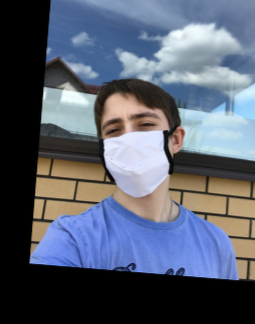with_mask: (98, 100, 175, 198)
